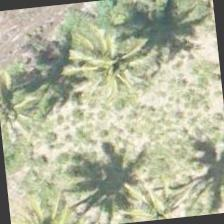Kelapa_Sawit: (70, 18, 169, 116), (0, 63, 52, 158)
